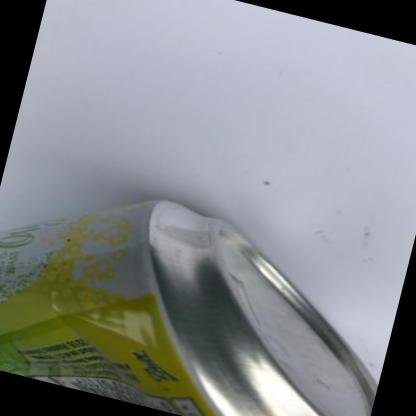Metal: (0, 201, 376, 416)
